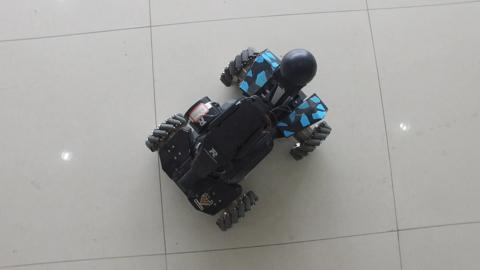chariot: (140, 5, 334, 241)
